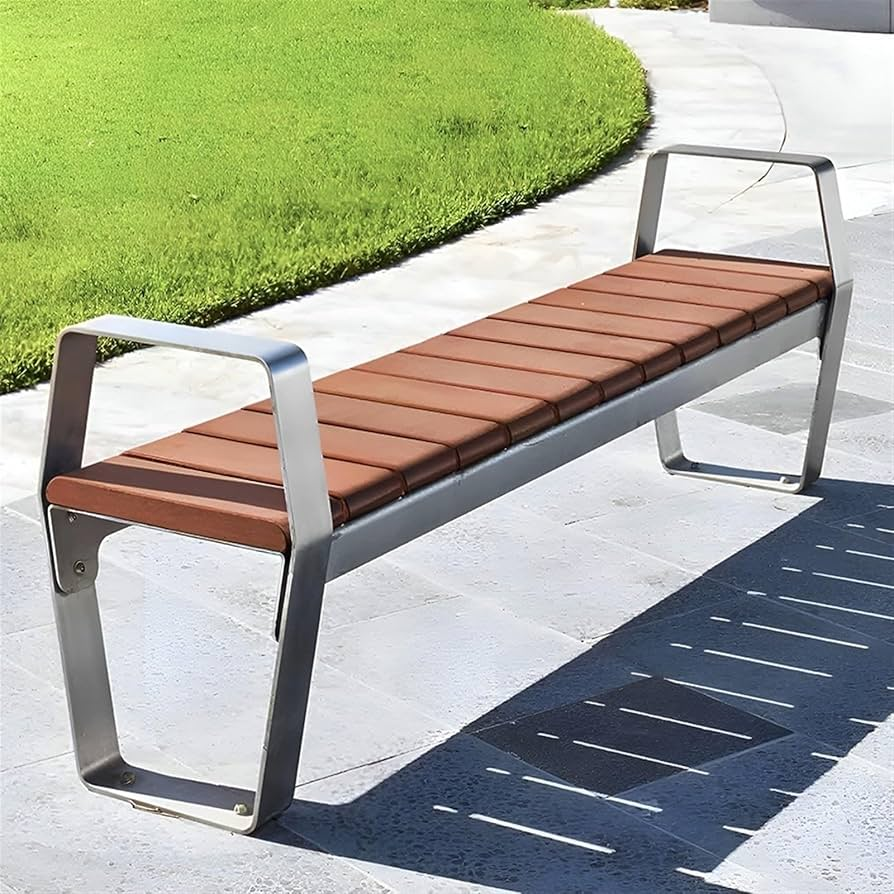Chair: (14, 132, 894, 847)
